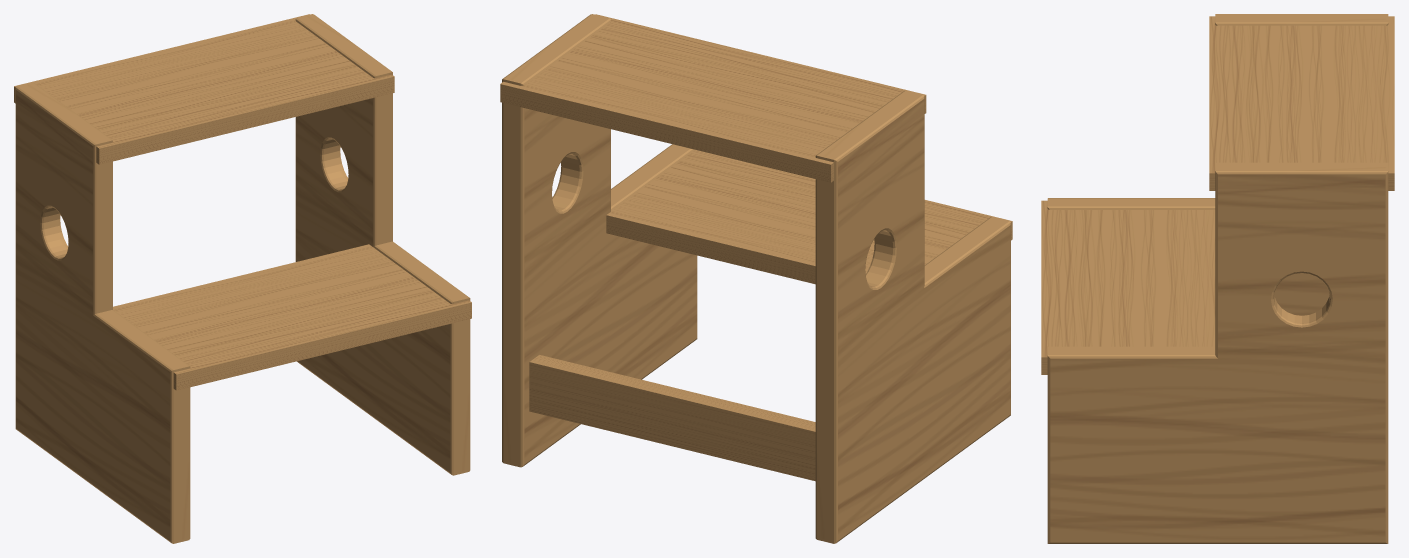
File: step-stool.glb
3 renders of one model, left to right at view 1: azimuth 30°, elevation 25°; view 2: azimuth 150°, elevation 25°; view 3: azimuth 270°, elevation 25°, orthographic. The views are drawn at different scales.
Visible parts, largest first — view 1: side (×2), top-step, low-step; view 2: side (×2), top-step, low-step, rail; view 3: side (×2), top-step, low-step.
Part boxes in pixels (x1,y1,x2,y2): side (×2): (15,14,470,543); top-step: (14,14,394,164); low-step: (113,244,471,390); side (×2): (502,14,1010,543); top-step: (500,14,926,182); low-step: (606,150,1012,284); rail: (529,355,815,481); side (×2): (1047,14,1388,543); top-step: (1209,16,1394,190); low-step: (1041,200,1215,374).
Bounding box in the file's own units: 0.426 × 0.466 × 0.4.
Materials: 1 (1 with a texture image).
